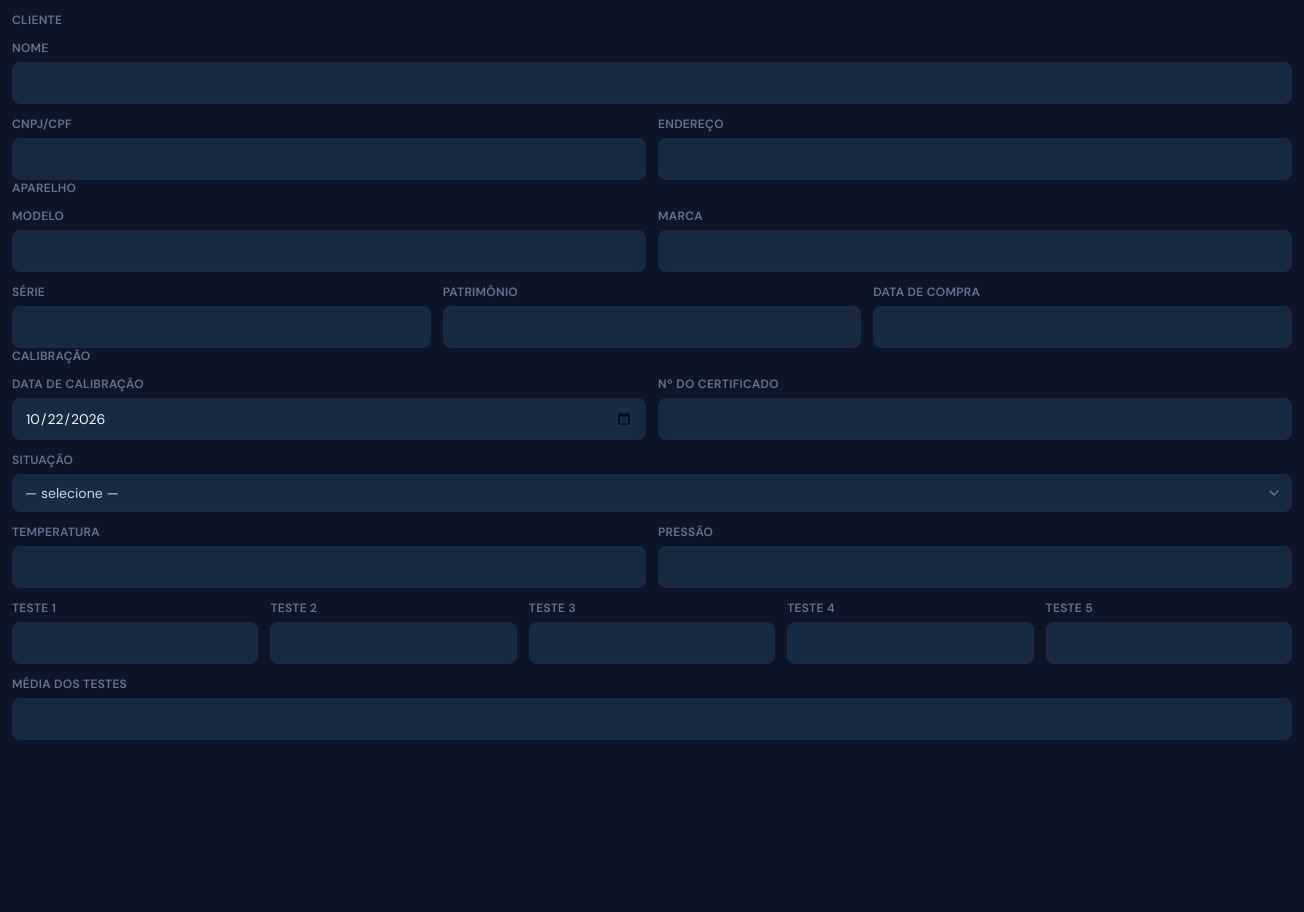
Test: CamposCertificado › calcula a media so com as medicoes preenchidas — OS antiga nao perde a media
Type "0,10" into the field labelled "Teste 1" at point(135, 643), box top-left (12, 622), bottom-right (258, 664)
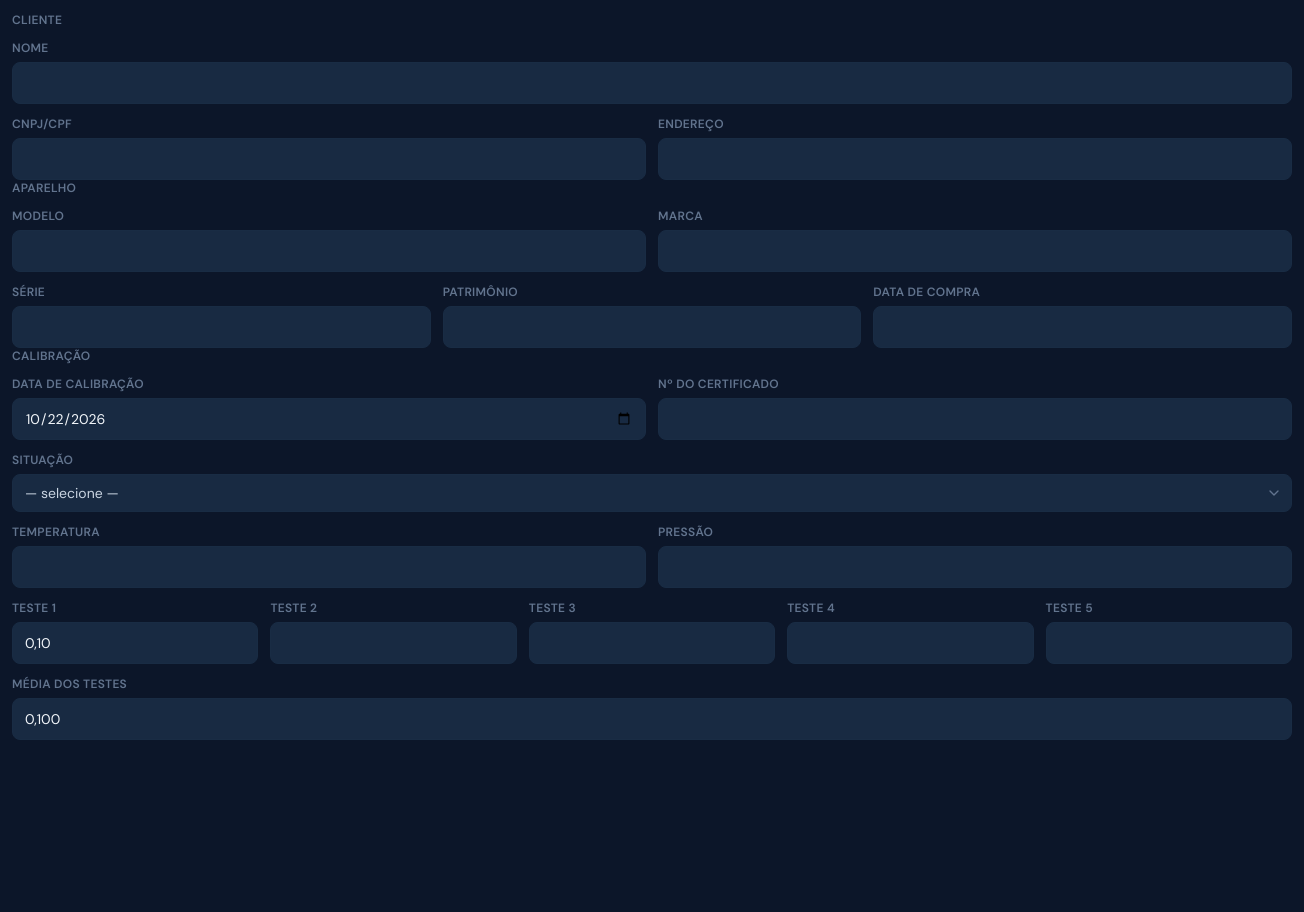
Type "0,20" into the field labelled "Teste 2" at point(394, 643), box top-left (270, 622), bottom-right (517, 664)
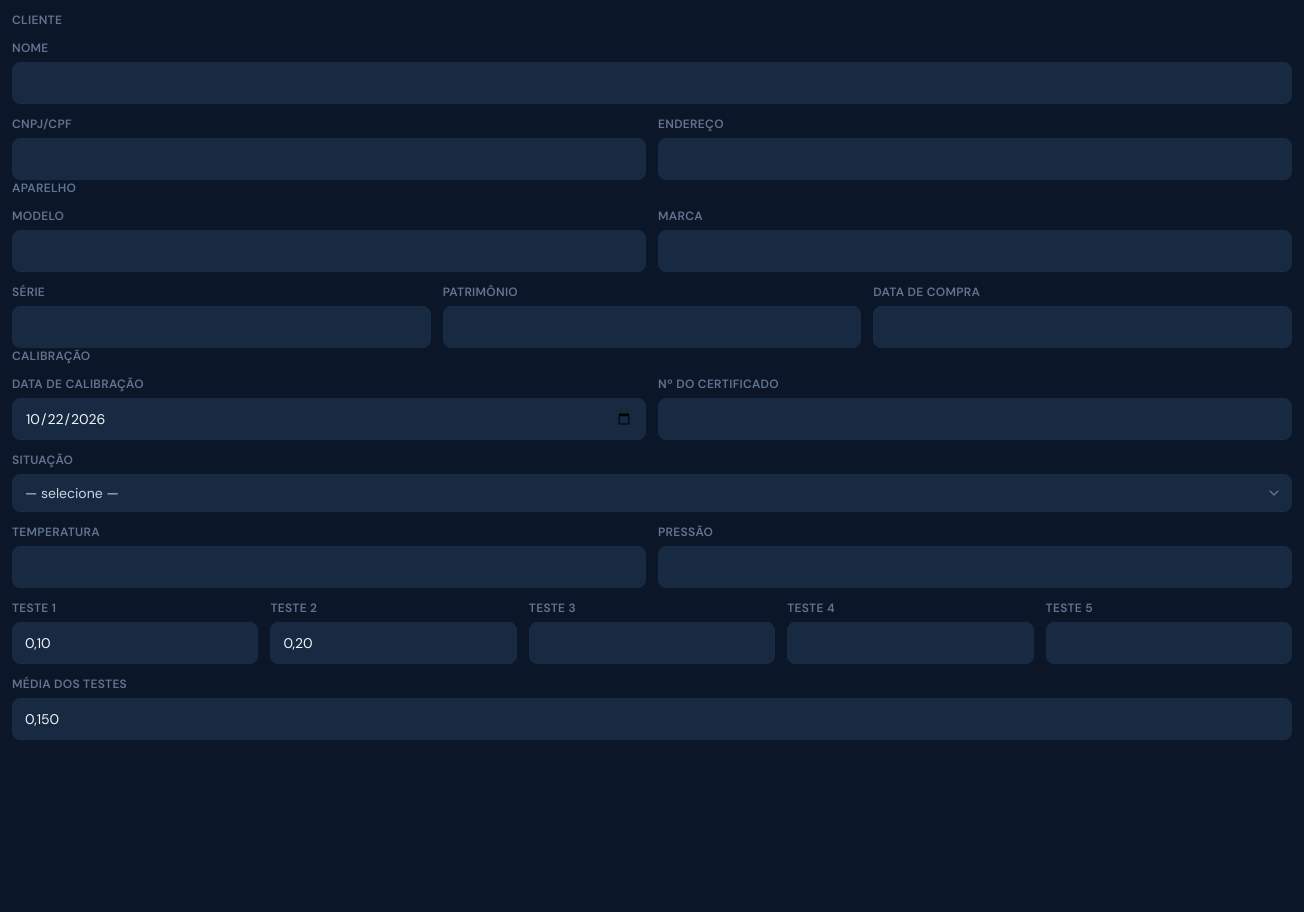
Type "0,30" into the field labelled "Teste 3" at point(652, 643), box top-left (529, 622), bottom-right (775, 664)
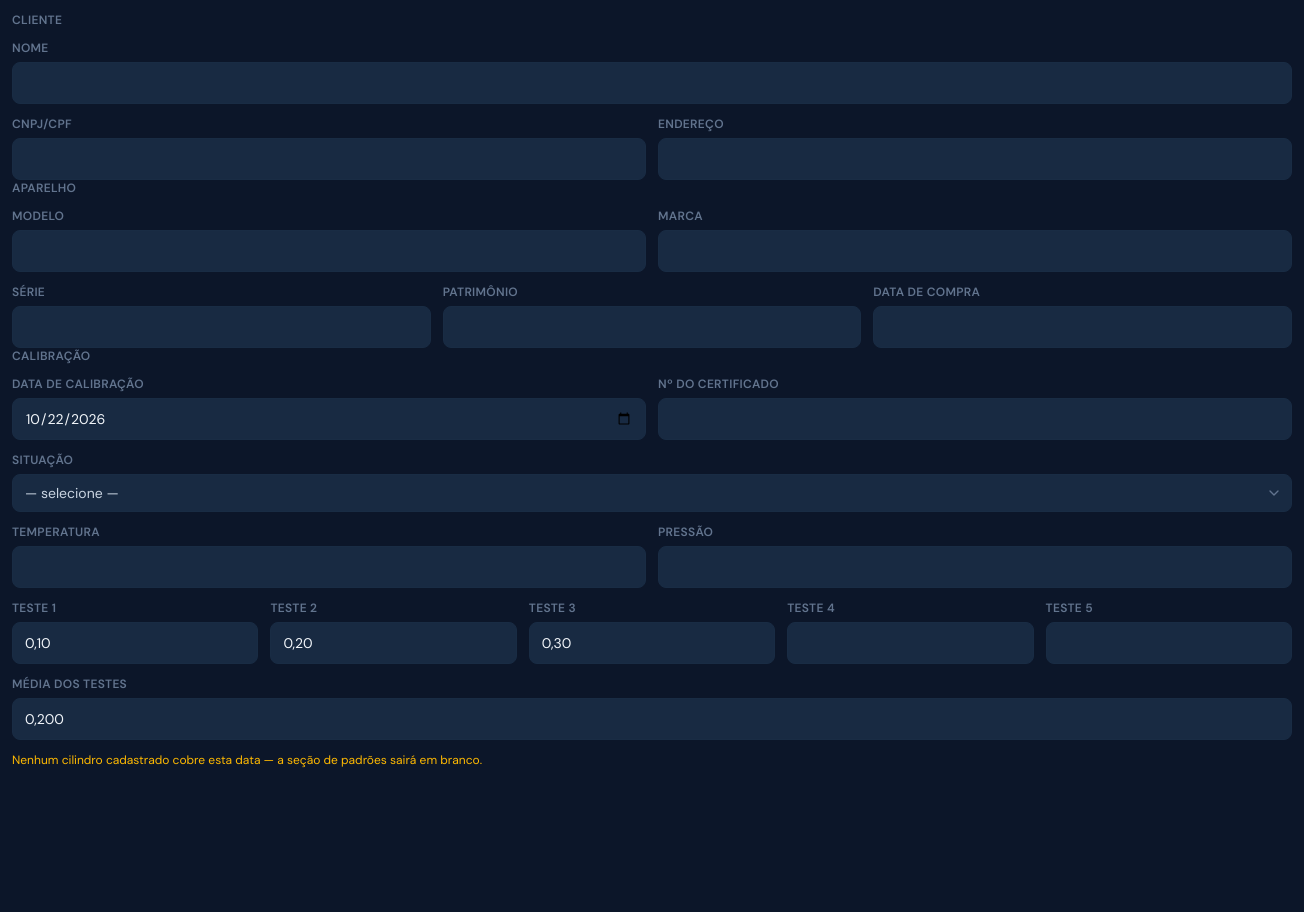
Now the field labelled "Média dos testes" holds "0,200", box top-left (12, 698), bottom-right (1292, 740)
Now the field labelled "Média dos testes" is not empty, box top-left (12, 698), bottom-right (1292, 740)
Now the text "Nenhum cilindro cadastrado cobre esta data" is shown, box top-left (12, 752), bottom-right (482, 768)
